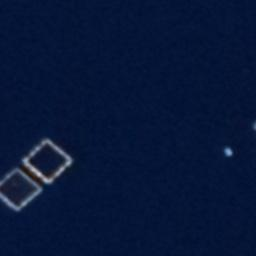square_solid: (17, 134, 76, 187), (1, 162, 48, 216)
